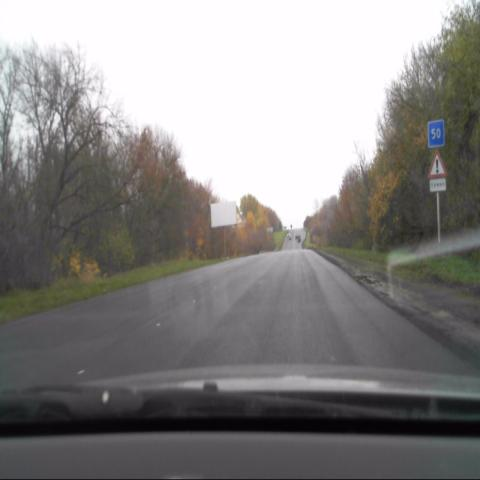1_33: (428, 149, 446, 176)
6_2: (427, 120, 445, 149)
